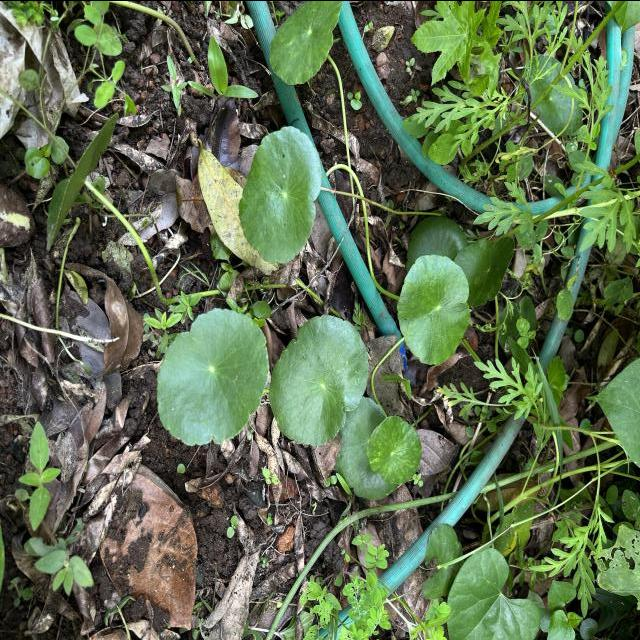Bacopa monnieri: (154, 305, 272, 448), (267, 312, 370, 448), (238, 122, 324, 265), (396, 253, 472, 366), (268, 1, 346, 86), (366, 414, 424, 486)
